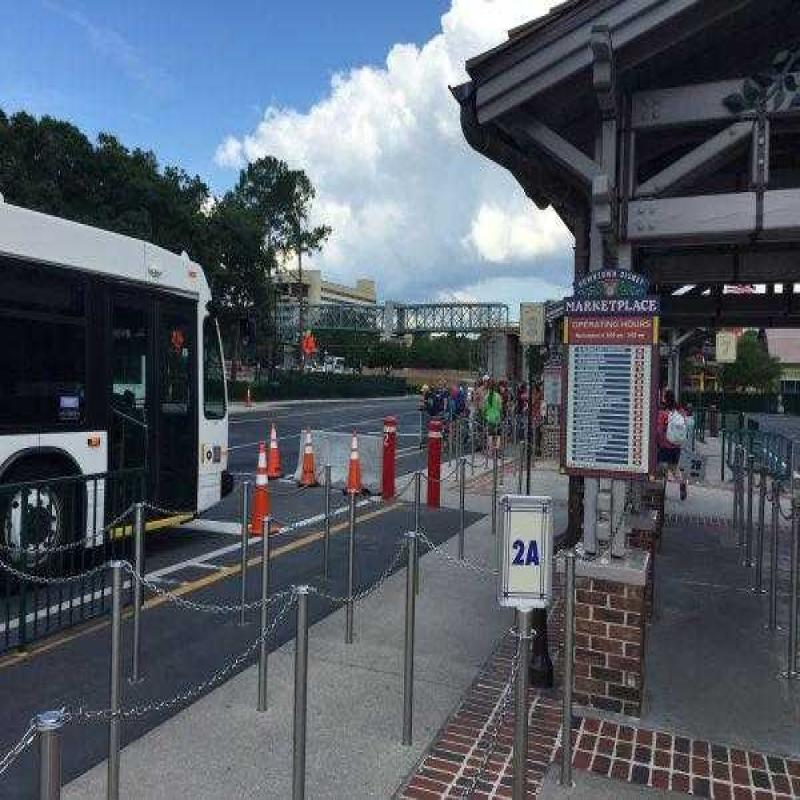bus: (0, 173, 260, 588)
